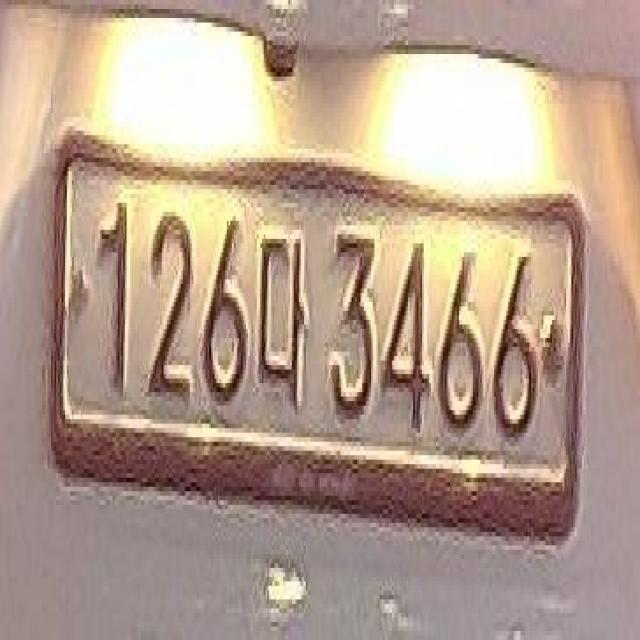illegal_plate: (52, 143, 580, 549)
